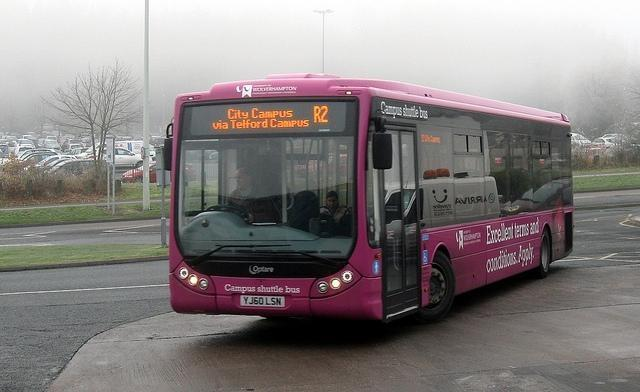bus: (162, 73, 576, 324)
car: (120, 160, 156, 182), (46, 158, 94, 174), (26, 156, 78, 170), (115, 147, 143, 169), (14, 154, 59, 164), (18, 148, 57, 159), (570, 132, 592, 147), (42, 139, 62, 154), (594, 138, 619, 148), (18, 140, 36, 152), (3, 140, 18, 154), (20, 134, 34, 140)
